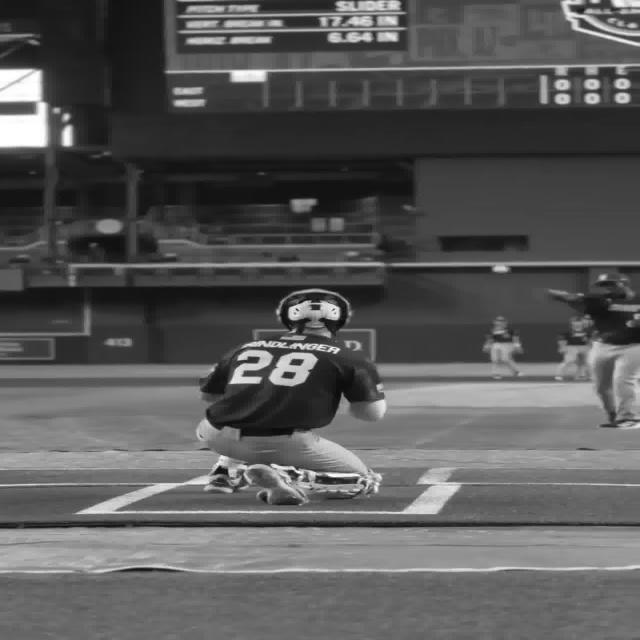baseball: (492, 265, 511, 274)
shoe: (246, 456, 310, 513), (204, 448, 252, 502)
